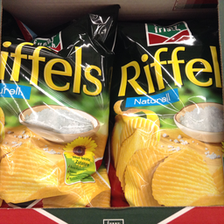chips: (1, 6, 114, 206), (115, 17, 222, 209)
